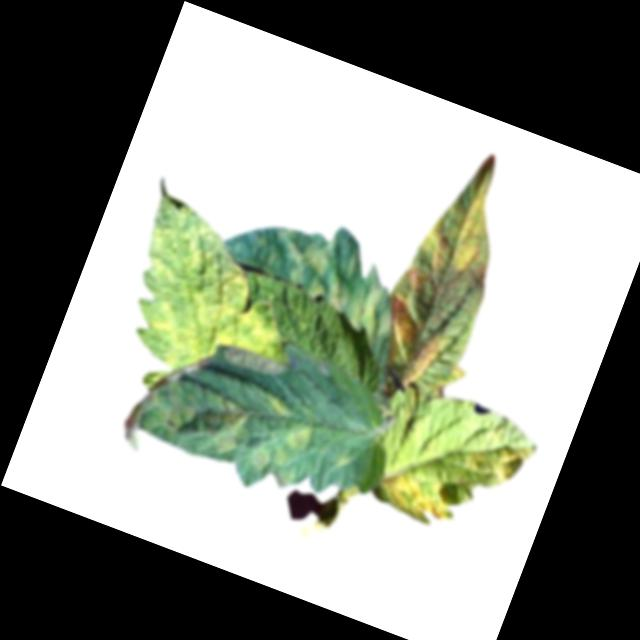Leaf_Mold: (363, 138, 541, 404), (107, 191, 307, 390), (123, 350, 327, 496), (372, 398, 551, 556), (269, 228, 406, 340)
